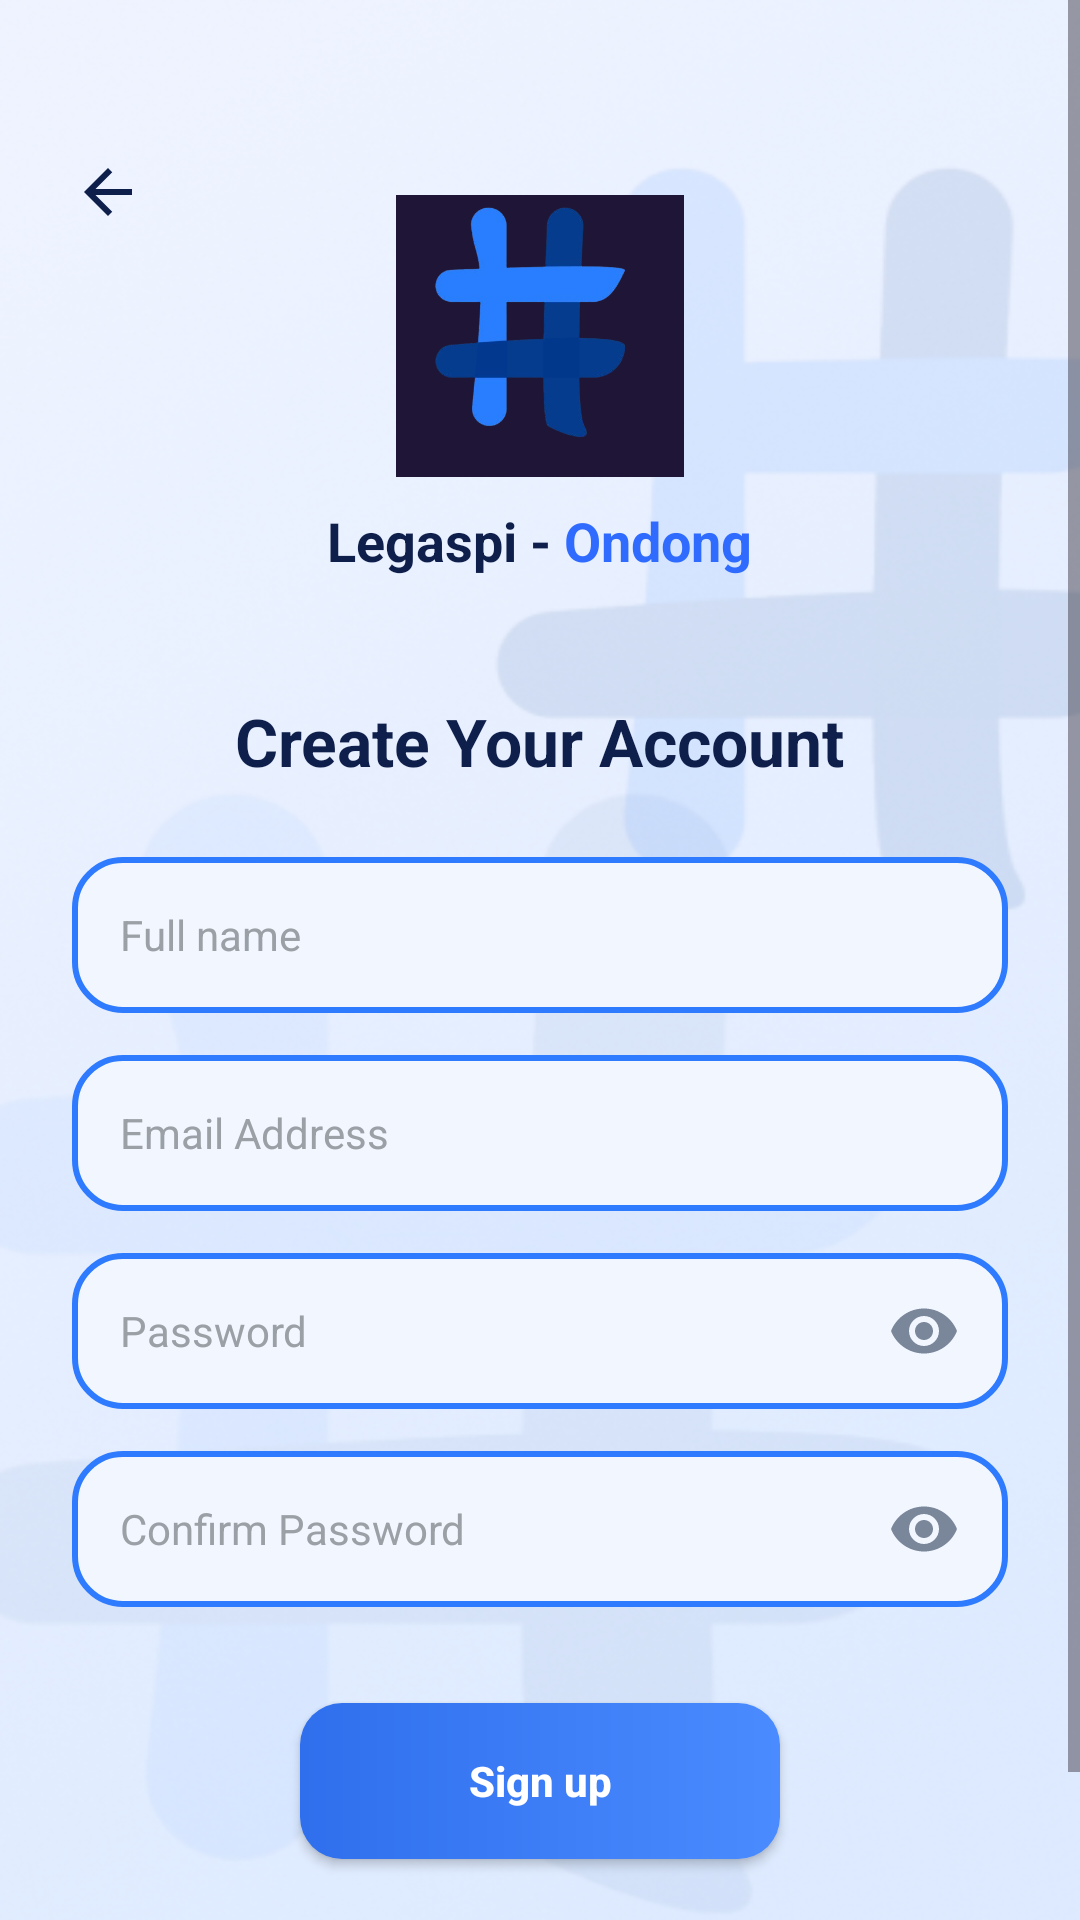

Icon bounding boxes for this 1080 × 1920 phone screenshot, format (x1, y1, x2, y2):
Back: (84, 168, 132, 216)
